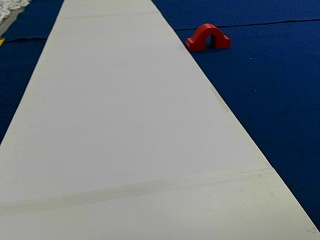bridge: (187, 23, 230, 49)
